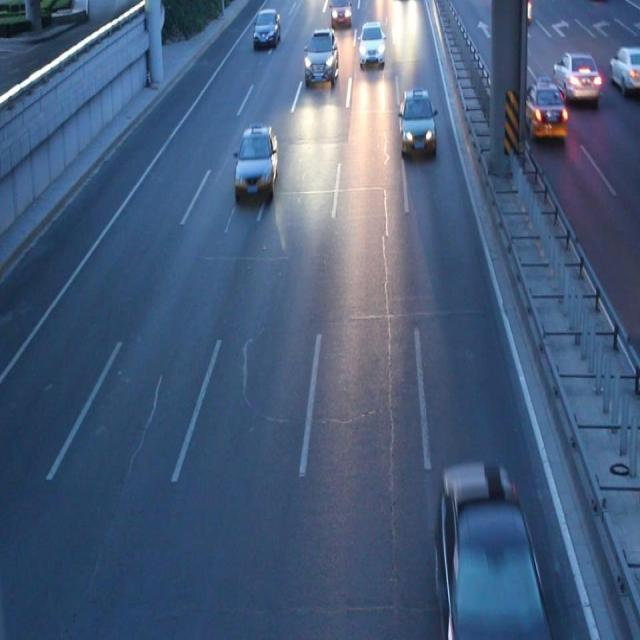car: (436, 461, 554, 640), (235, 124, 277, 196), (397, 88, 436, 153), (303, 29, 338, 85), (357, 21, 386, 67), (254, 8, 280, 48), (329, 1, 352, 32)
